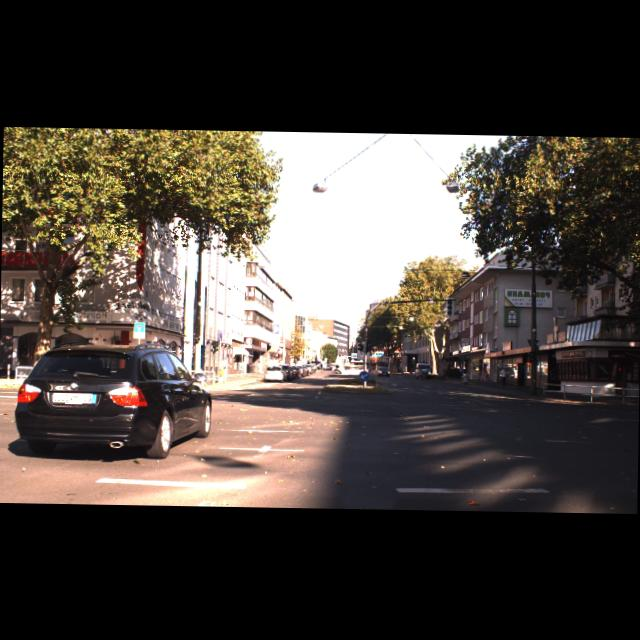mandatory: (359, 371, 369, 381)
